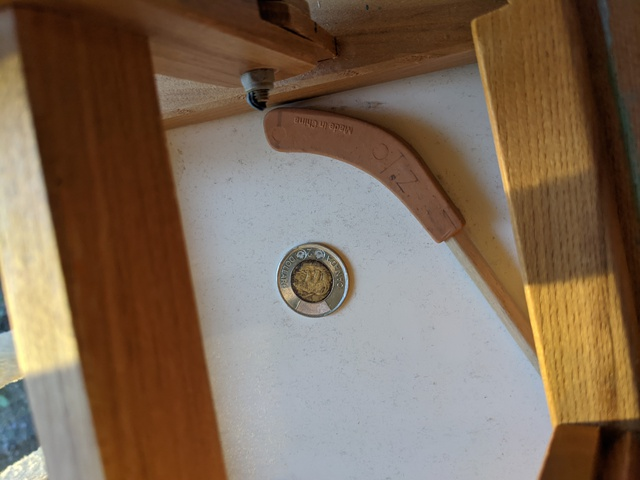twonie: (272, 238, 354, 319)
